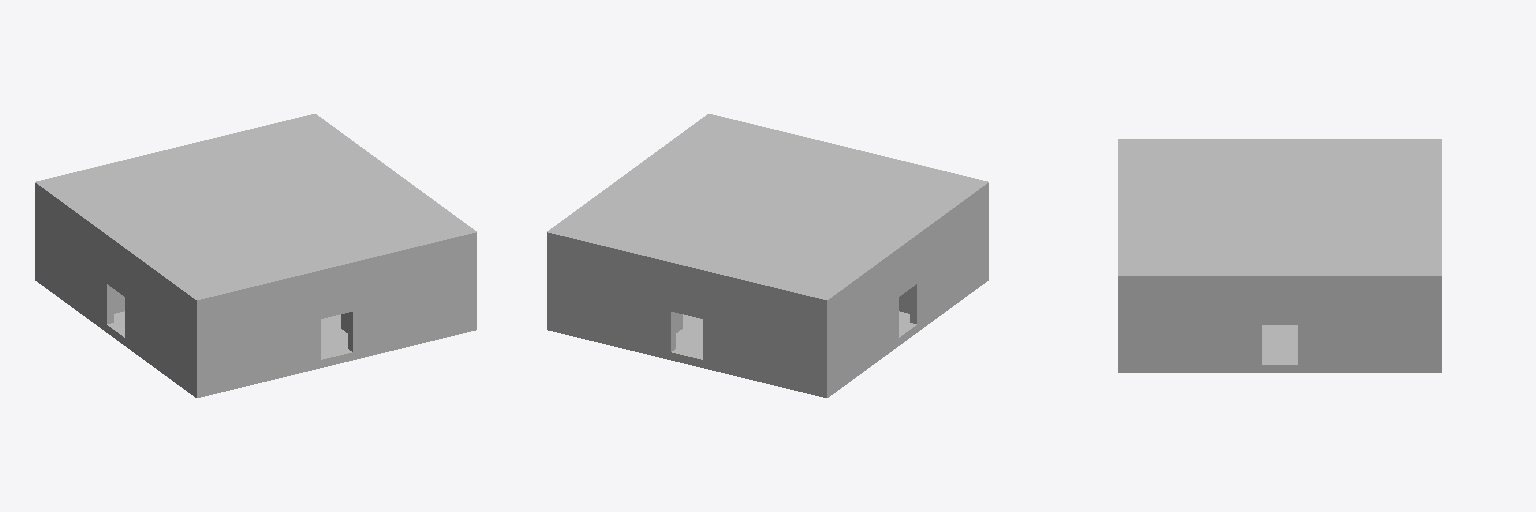
The model's file is sipja_bokdo.obj.
3 views of the same model, side by side, from view 1: azimuth 30°, elevation 25°; view 2: azimuth 150°, elevation 25°; view 3: azimuth 270°, elevation 25° (orthographic).
Visible parts, largest first — view 1: Cube, Cube.004, Cube.005, Cube.008, Cube.001, Cube.045, Cube.002, Cube.030, Cube.010; view 2: Cube, Cube.025, Cube.024, Cube.001, Cube.008, Cube.045, Cube.028, Cube.030, Cube.003; view 3: Cube, Cube.003, Cube.010, Cube.045, Cube.029.
Part boxes in pixels (x1,y1,x2,y2): Cube: (35, 114, 476, 308); Cube.004: (348, 242, 469, 351); Cube.005: (204, 279, 320, 387); Cube.008: (125, 257, 203, 389); Cube.001: (35, 191, 113, 323); Cube.045: (35, 272, 476, 397); Cube.002: (321, 271, 352, 318); Cube.030: (107, 243, 124, 296); Cube.010: (470, 240, 476, 323); Cube: (547, 114, 988, 308); Cube.025: (554, 242, 675, 351); Cube.024: (703, 279, 819, 387); Cube.001: (820, 257, 898, 389); Cube.008: (910, 191, 988, 323); Cube.045: (547, 272, 988, 397); Cube.028: (671, 271, 702, 318); Cube.030: (899, 243, 916, 296); Cube.003: (547, 240, 553, 323); Cube: (1118, 139, 1441, 283); Cube.003: (1298, 284, 1441, 364); Cube.010: (1118, 284, 1261, 364); Cube.045: (1118, 325, 1441, 372); Cube.029: (1262, 284, 1297, 324).
Bounding box in the file's own units: 36 × 12 × 36.